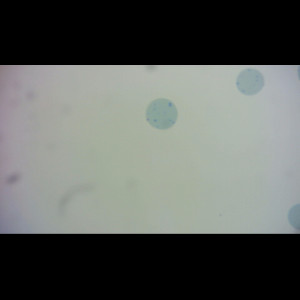punctate reticulocyte: (144, 97, 179, 131), (234, 67, 266, 96)
